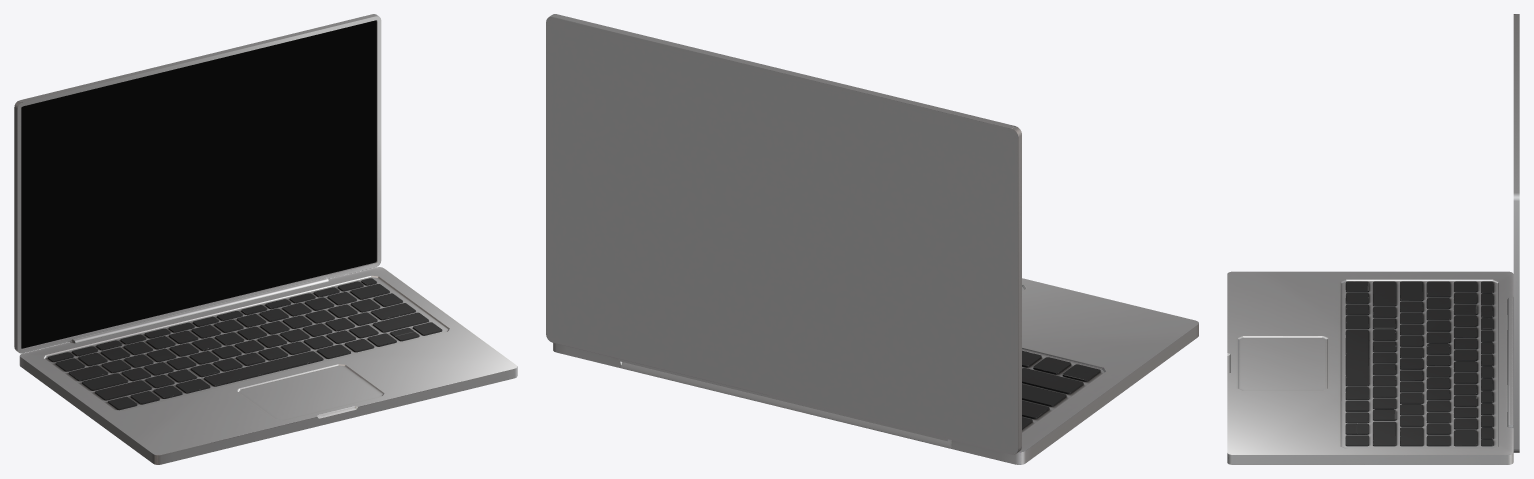
Rendered from laptopanim.gltf.
3 views of the same model, side by side, from view 1: azimuth 30°, elevation 25°; view 2: azimuth 150°, elevation 25°; view 3: azimuth 270°, elevation 25° (orthographic). The views are drawn at different scales.
Visible parts, largest first — view 1: ScreenAnimation, Body, Display; view 2: Display, Body; view 3: Body, Display.
Boxes of the visible parts, x1,y1,x2,y2 form: ScreenAnimation: [21, 20, 376, 348]; Body: [19, 267, 517, 464]; Display: [14, 14, 381, 353]; Display: [546, 14, 1021, 454]; Body: [553, 278, 1198, 464]; Body: [1227, 271, 1513, 464]; Display: [1508, 14, 1519, 452].
Bounding box in the file's own units: 0.3047 × 0.2087 × 0.2053.
Materials: 4 (4 with a texture image).
